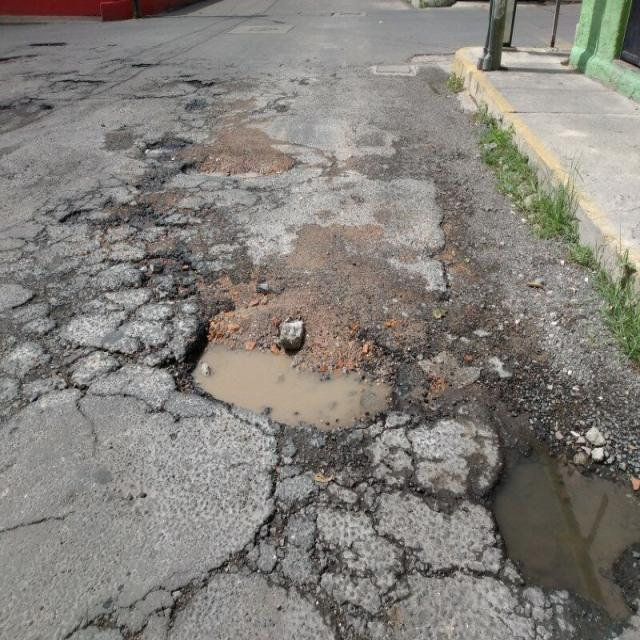Pothole: (85, 122, 468, 480), (442, 394, 640, 608), (0, 30, 146, 116)
